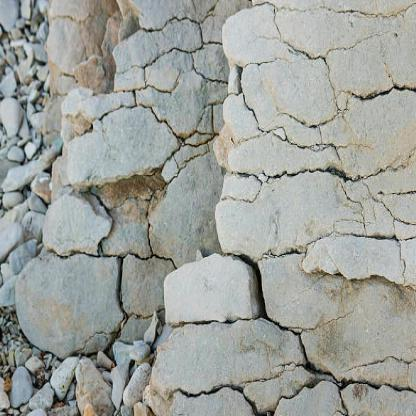Sedimentary_Limestone: (206, 171, 367, 264), (12, 252, 121, 362), (55, 101, 171, 191), (161, 252, 264, 328), (300, 228, 410, 290), (159, 385, 278, 415), (240, 368, 314, 415), (340, 376, 416, 415)
